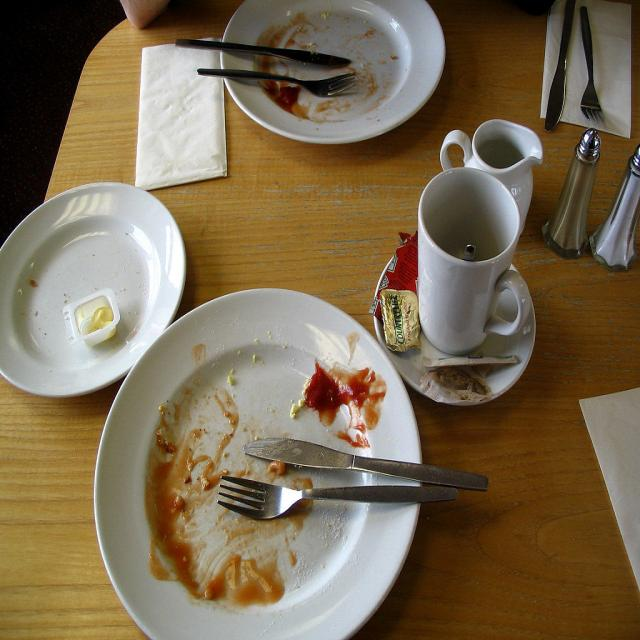non-organic waste: (87, 283, 436, 640), (0, 182, 194, 416), (207, 0, 466, 162)
